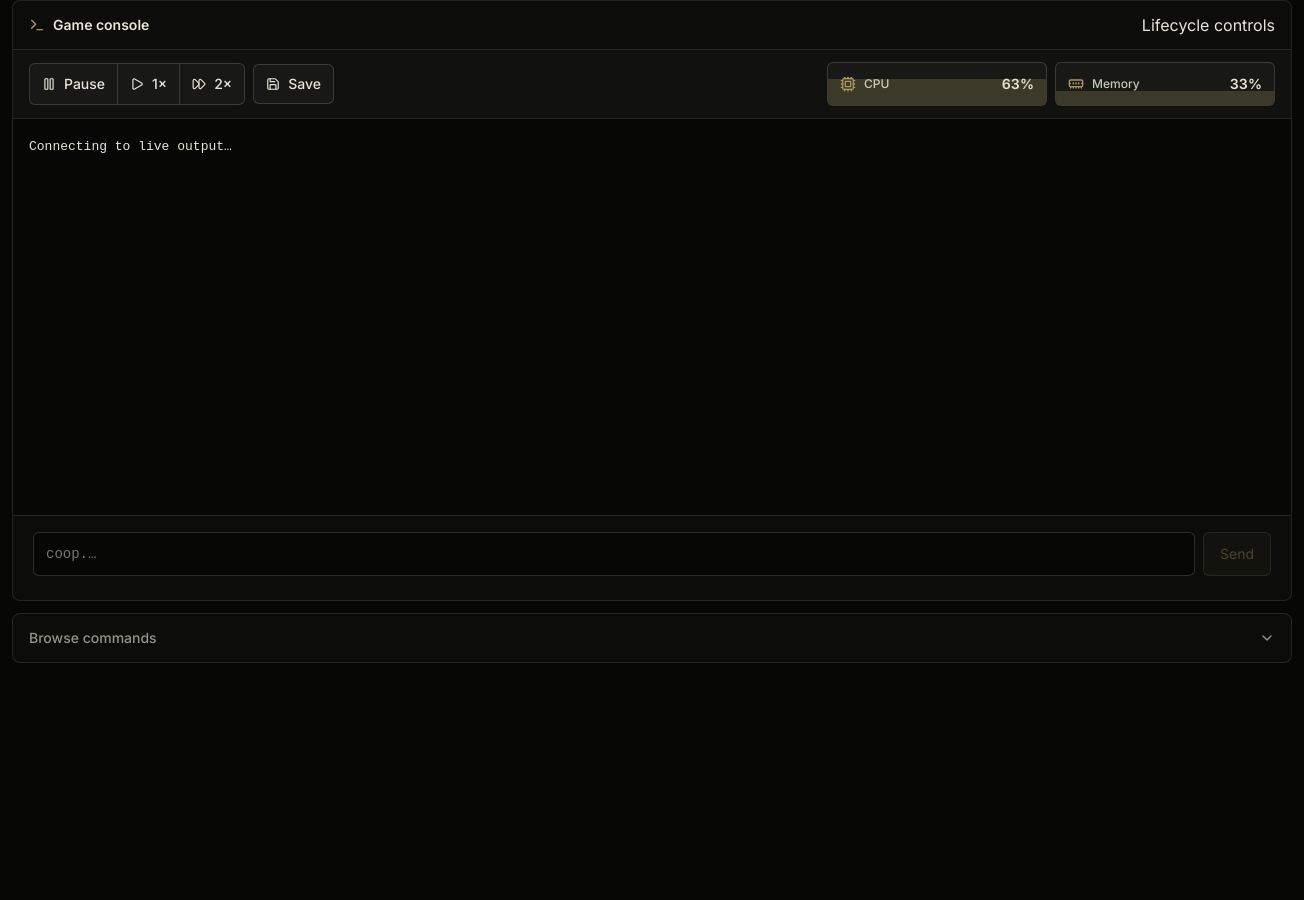
Test case: reports a save the server did not complete: [DedicatedServer] operator save skipped: a world save is already in progress
Step 1. Click the button "Save" → point(294, 84), box 253,64 -> 334,104
Wait 31000 ms
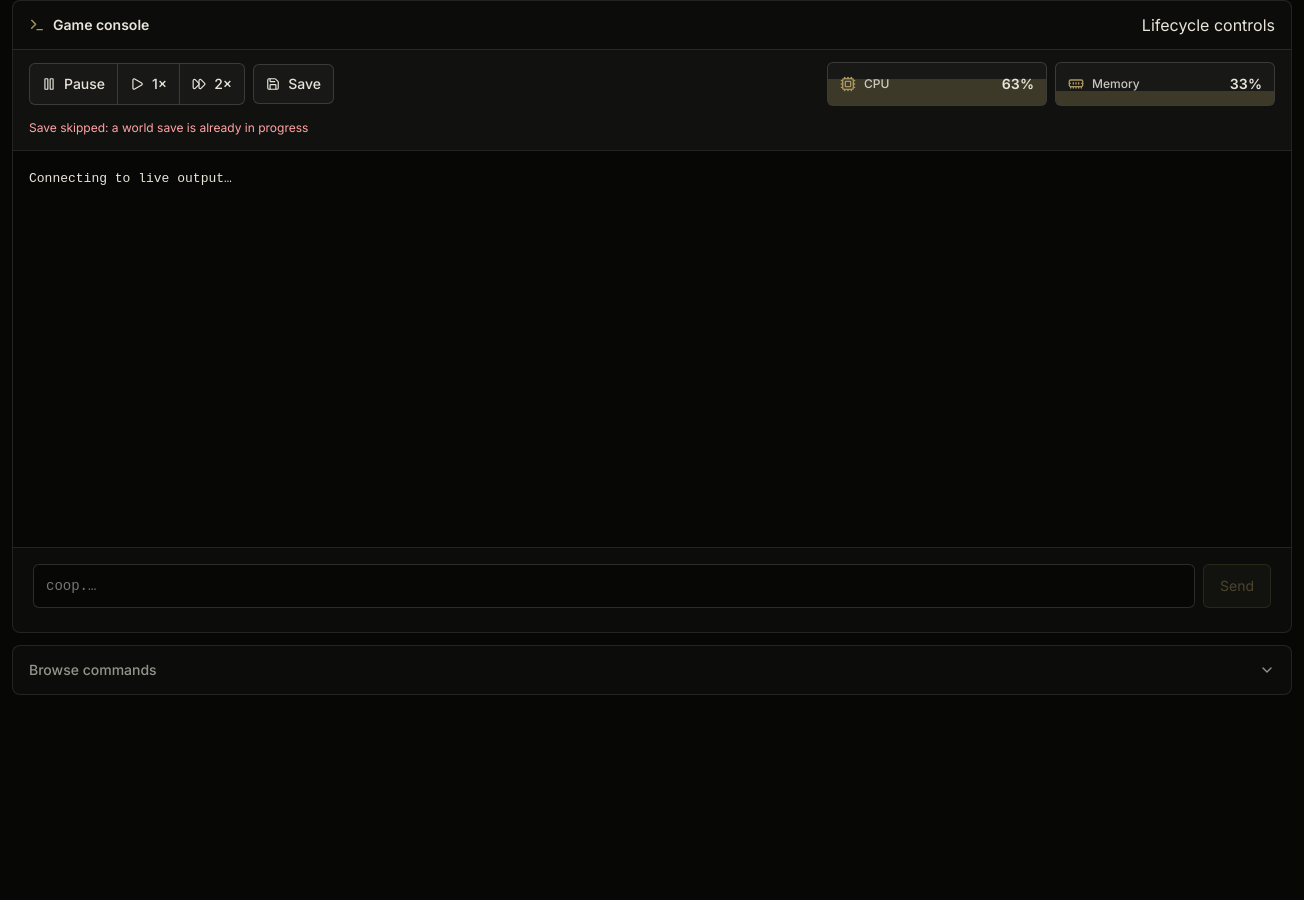
expect the message "Save skipped: a world save is already in progress" is shown: met, box 29,118 -> 308,138
